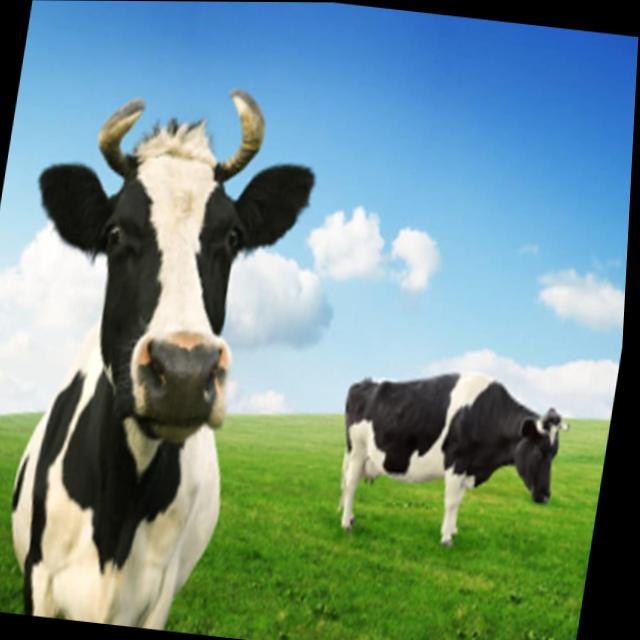cowFace: (2, 66, 339, 453), (508, 400, 577, 508)
